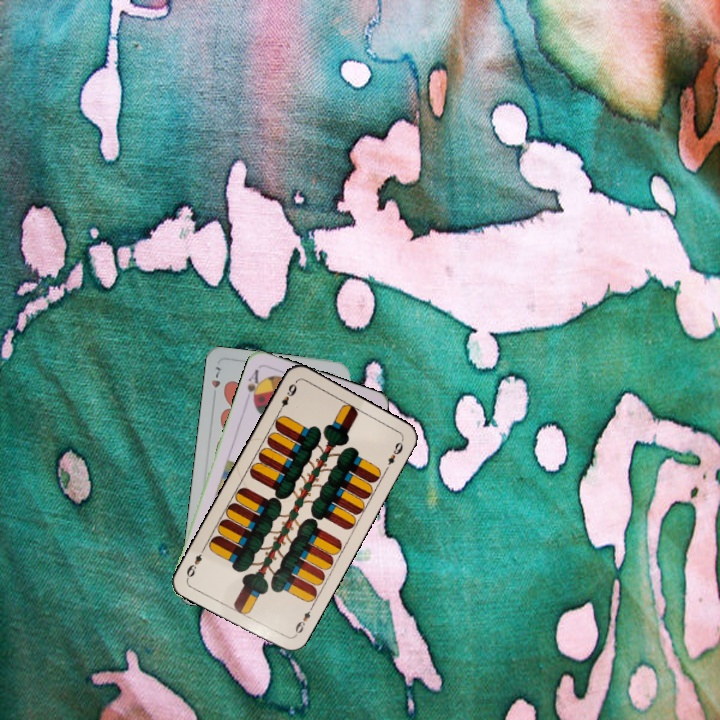E9: (274, 378, 300, 415), (290, 602, 315, 640)
H7: (207, 361, 223, 390)
SA: (243, 365, 265, 406)
